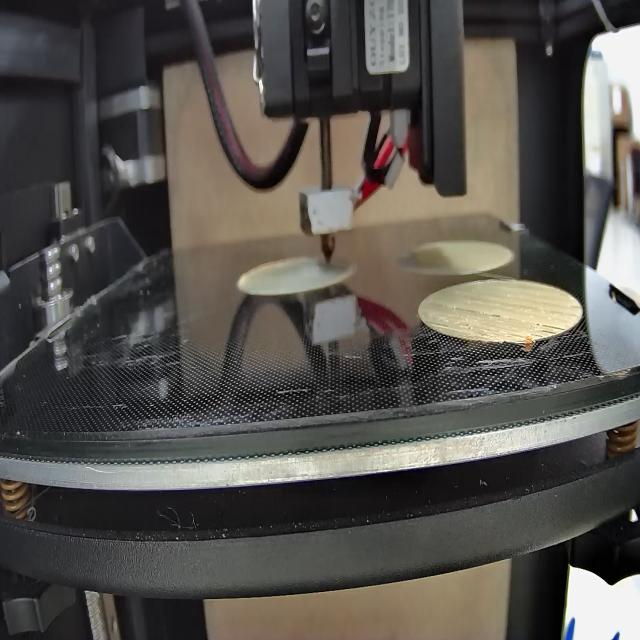under_extrusion: (453, 306, 503, 322), (528, 321, 564, 341), (506, 330, 525, 344), (429, 322, 449, 332)
